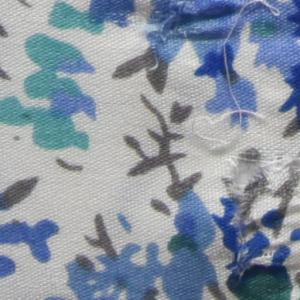Damage: (209, 141, 300, 300), (85, 1, 208, 79)
